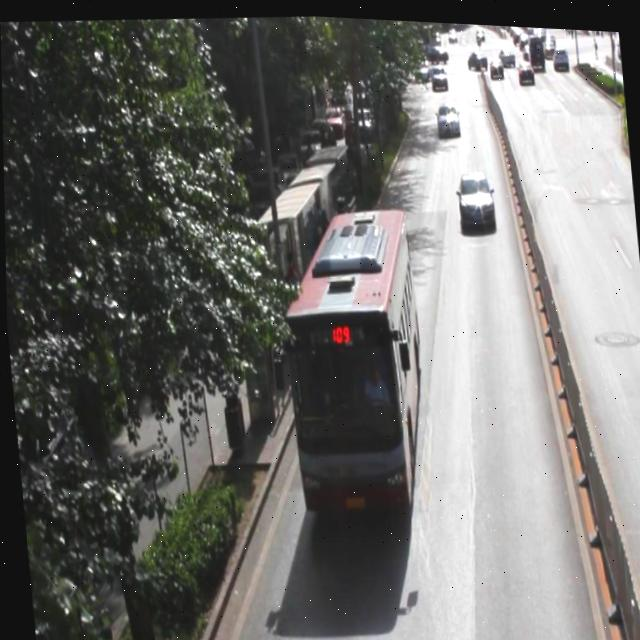car: (454, 163, 490, 218), (432, 92, 457, 125)
van: (273, 197, 429, 514)
